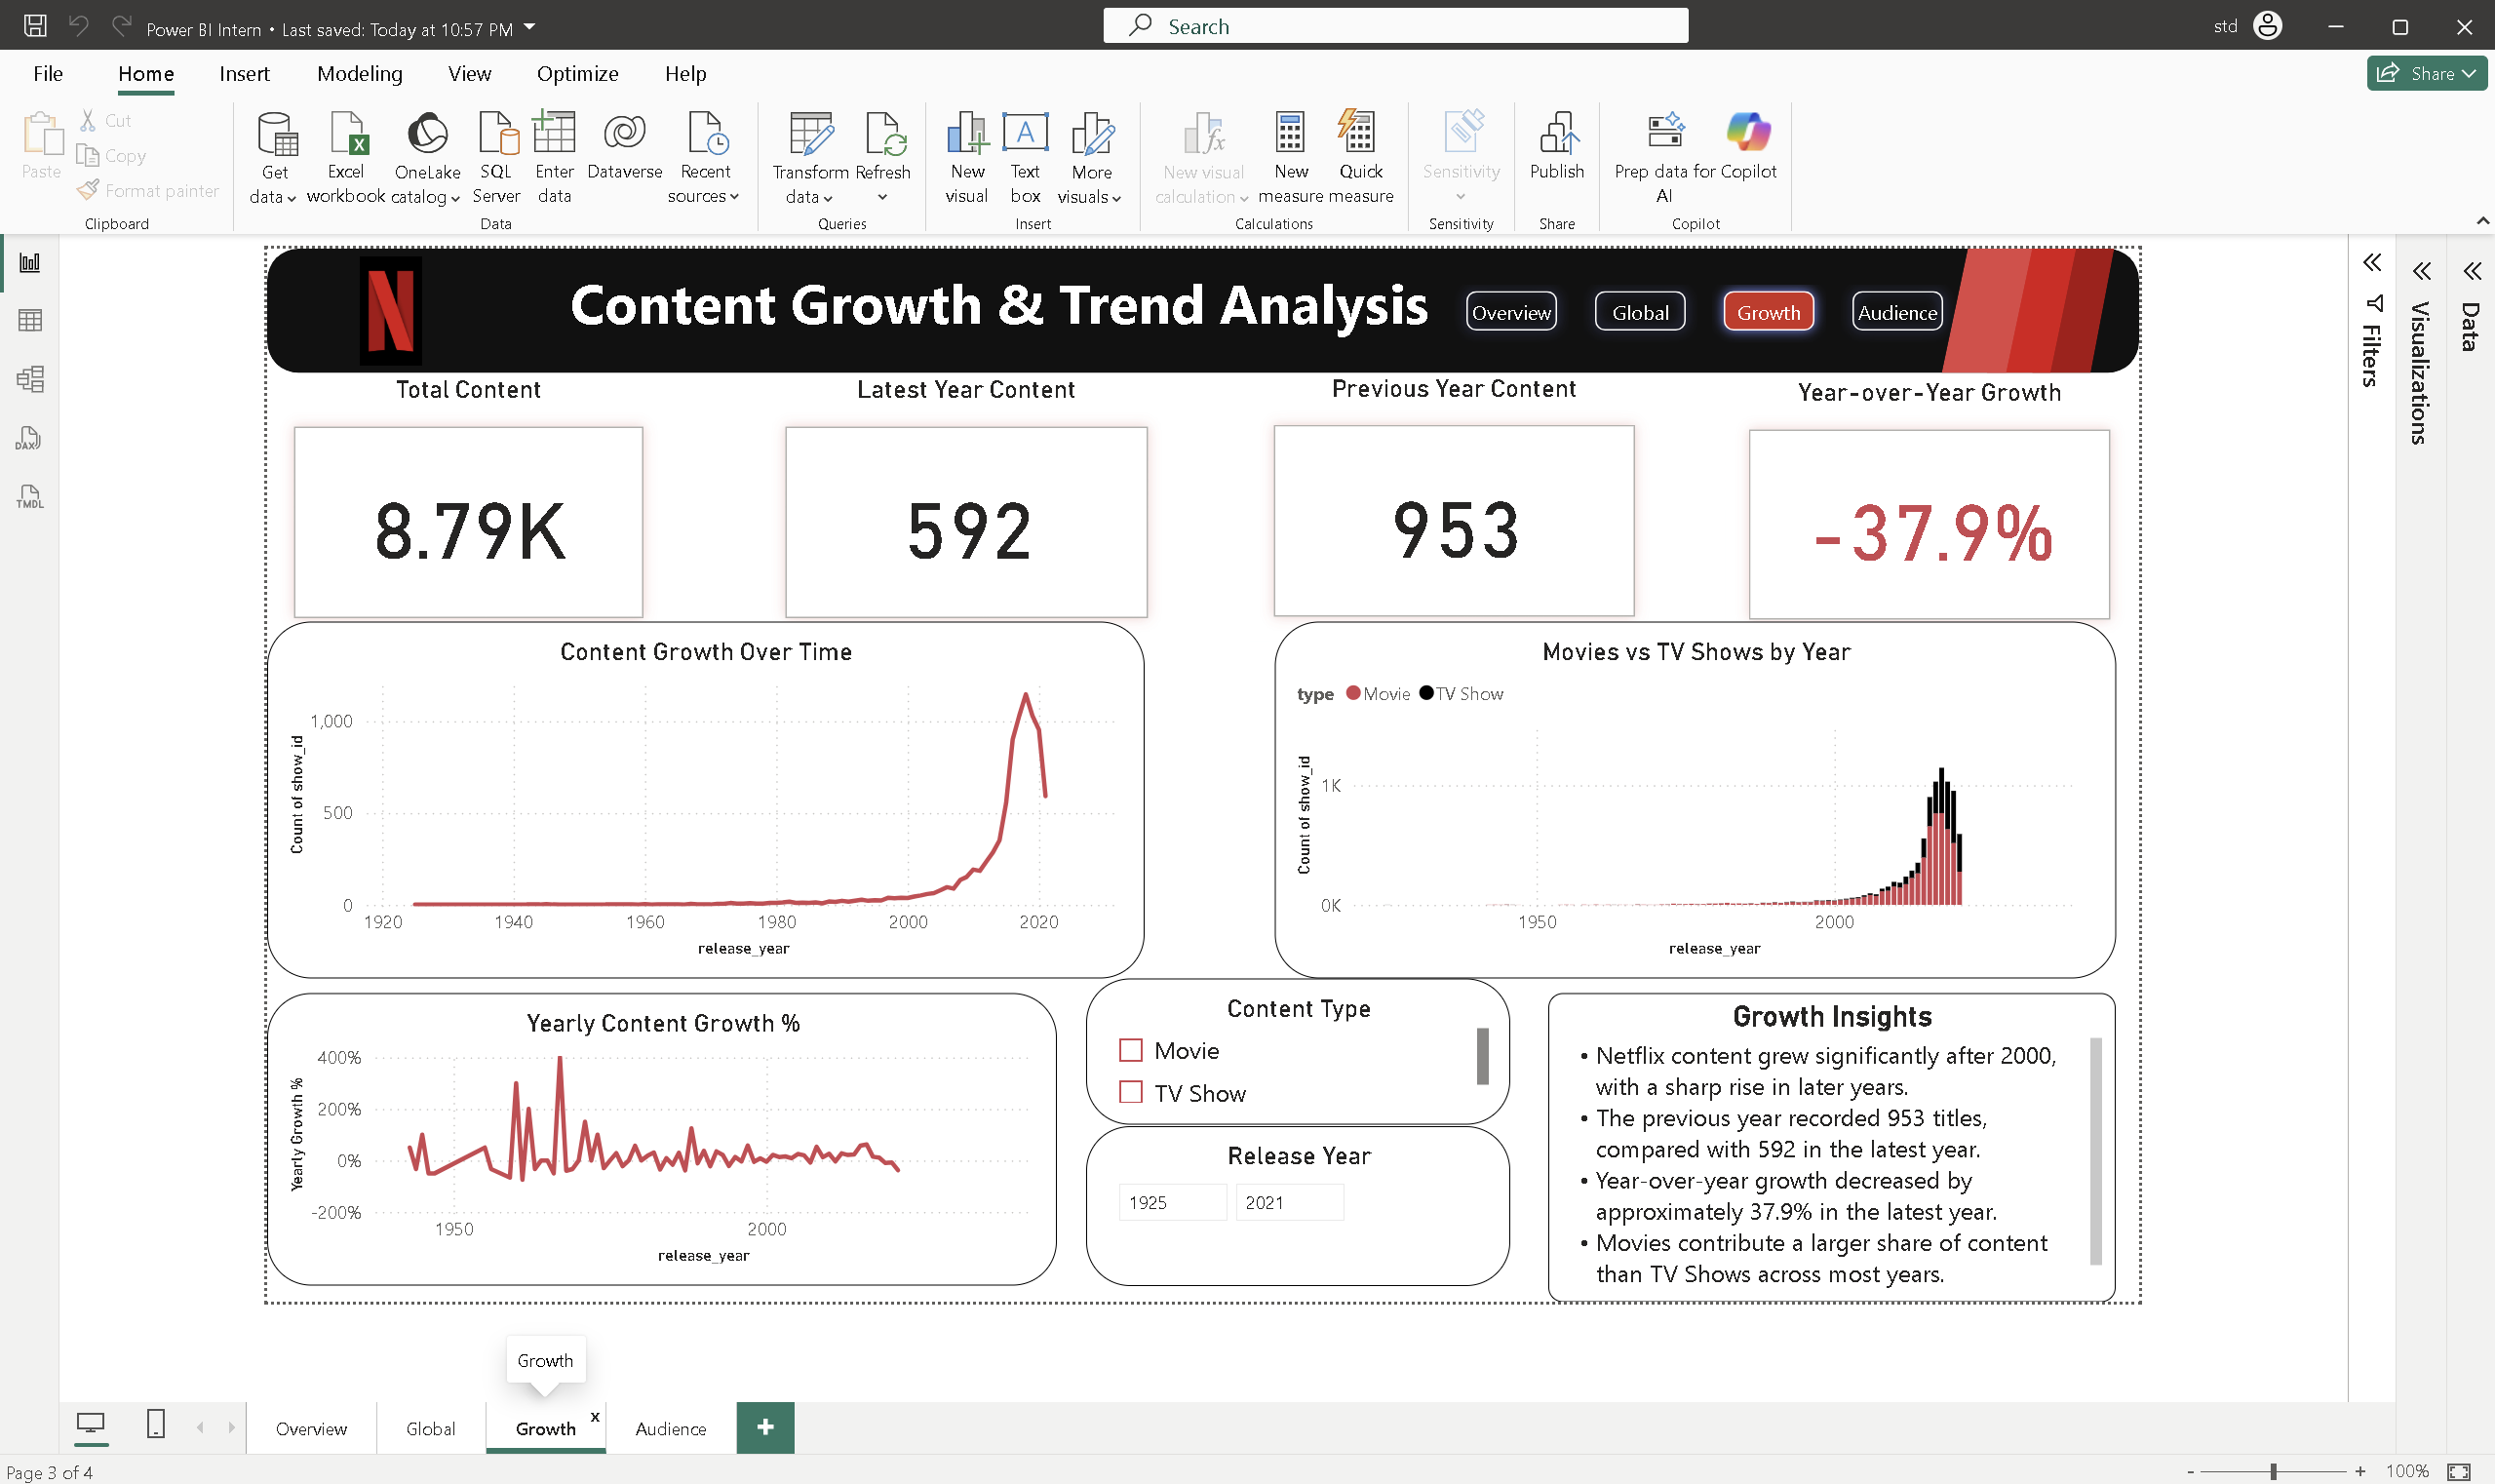

What the dashboard file says about the page in this screenshot:
{"tool":"powerbi","page":{"name":"Growth","canvas":[1280,720],"ordinal":2},"visuals":[{"type":"cardVisual","title":"Total Content","fields":{"Data":["CountNonNull(Dataset.show_id)"]},"box":[2,86.5,270.6,182],"z":0},{"type":"cardVisual","title":"Latest Year Content","fields":{"Data":["Dataset.Latest Year Content"]},"box":[337.9,86.5,279.6,182],"z":1000},{"type":"cardVisual","title":"Previous Year Content","fields":{"Data":["Dataset.Previous Year Content"]},"box":[671.9,85.5,279.6,182],"z":2000},{"type":"cardVisual","title":"Year-over-Year Growth","fields":{"Data":["Dataset.YoY Growth %"]},"box":[996.7,87.5,279.6,182],"z":3000},{"type":"lineChart","title":"Content Growth Over Time","fields":{"Category":["Dataset.release_year"],"Y":["Count(Dataset.show_id)"]},"box":[0,255.5,600.4,243.4],"z":4000},{"type":"columnChart","title":"Movies vs TV Shows by Year","fields":{"Category":["Dataset.release_year"],"Series":["Dataset.type"],"Y":["CountNonNull(Dataset.show_id)"]},"box":[689,255.5,575.3,243.4],"z":5000},{"type":"lineChart","title":"Yearly Content Growth %","fields":{"Category":["Dataset.release_year"],"Y":["Dataset.Yearly Growth %"]},"box":[0,508.9,540.1,200.1],"z":6000},{"type":"slicer","title":"Release Year","fields":{"Values":["Dataset.release_year"]},"box":[560,600,290,109],"z":7000},{"type":"slicer","title":"Content Type","fields":{"Values":["Dataset.type"]},"box":[560.2,498.9,289.7,100.6],"z":8000},{"type":"textbox","title":"Growth Insights","box":[876,508.9,388.2,211.2],"z":9000},{"type":"shape","box":[0,0,1280,85],"z":10000},{"type":"textbox","box":[166.7,5.6,667.8,74.6],"z":11000},{"type":"shape","box":[1206.6,0,56.8,85.3],"z":12000},{"type":"shape","box":[1175.8,0,61.6,85.3],"z":13000},{"type":"shape","box":[1145,0,61.6,85.3],"z":14000},{"type":"image","box":[29.6,0,108.9,85.3],"z":15000},{"type":"pageNavigator","box":[812,21,343,43],"z":15001}]}

Visuals, with their boxes on the page's 1280x720 design canvas (x1, y1, x2, y2). These are canvas units, not pixel positions in the 2495x1484 screenshot, which may show the page scaled, cropped or inside an application window:
"Total Content" cardVisual: 2 86 273 268
"Latest Year Content" cardVisual: 338 86 618 268
"Previous Year Content" cardVisual: 672 86 952 268
"Year-over-Year Growth" cardVisual: 997 88 1276 270
"Content Growth Over Time" lineChart: 0 256 600 499
"Movies vs TV Shows by Year" columnChart: 689 256 1264 499
"Yearly Content Growth %" lineChart: 0 509 540 709
"Release Year" slicer: 560 600 850 709
"Content Type" slicer: 560 499 850 600
"Growth Insights" textbox: 876 509 1264 720
shape: 0 0 1280 85
textbox: 167 6 834 80
shape: 1207 0 1263 85
shape: 1176 0 1237 85
shape: 1145 0 1207 85
image: 30 0 138 85
pageNavigator: 812 21 1155 64
